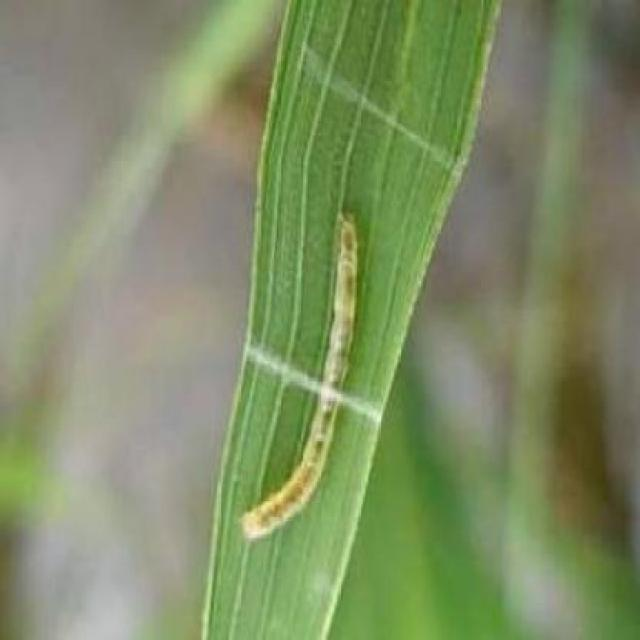leaf-folder: (230, 163, 372, 546)
